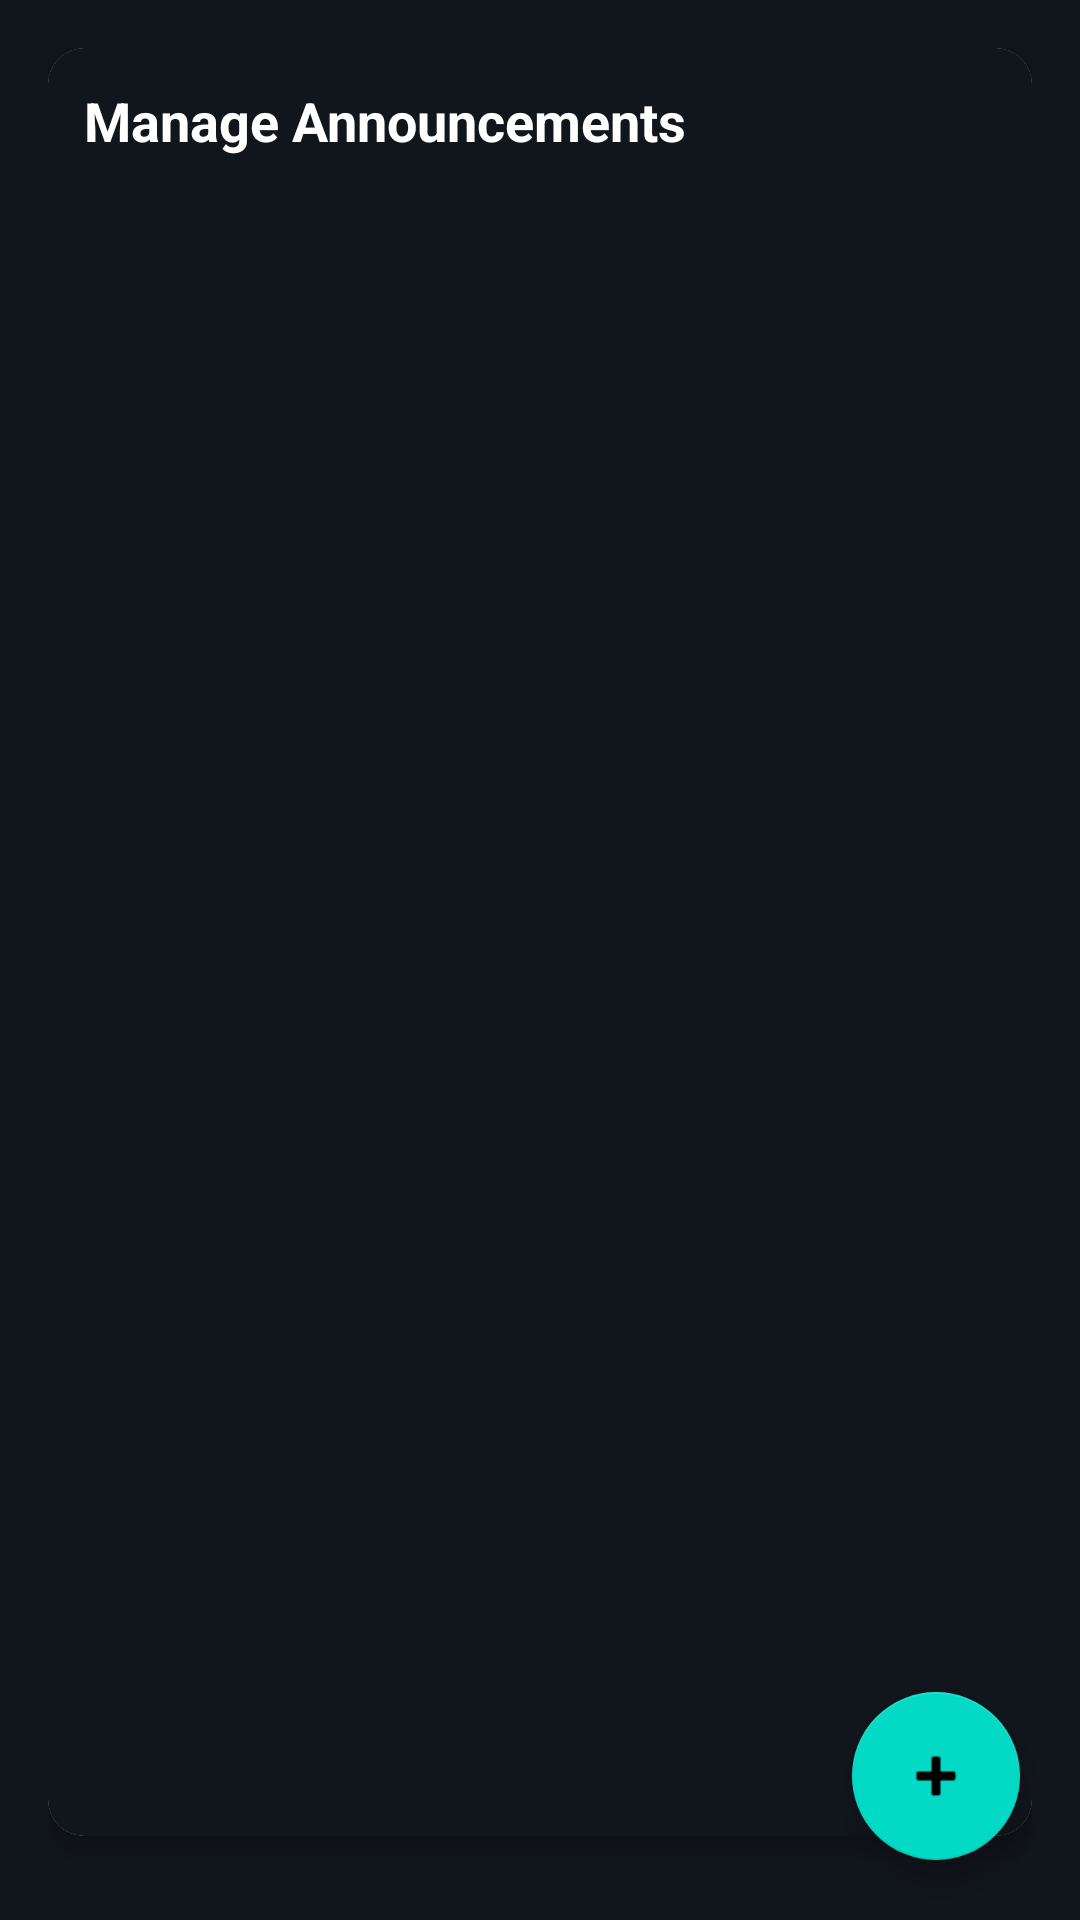

Icon click points for this 1080x1920 phone screenshot, format (x,y):
Add Announcement: (936,1776)
